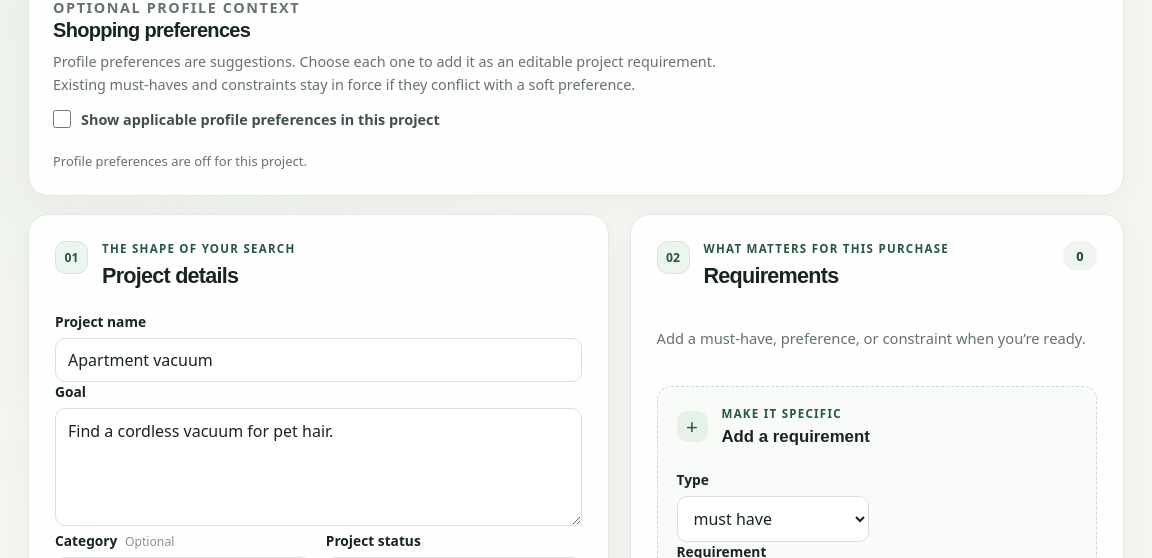
project Overview › saves project details as a revisioned patch
(page scrolled)
Step 1. Replace the text in the field labelled "Project name" with "Quiet apartment vacuum" → (318, 360), box [55, 338, 582, 382]
(page scrolled)
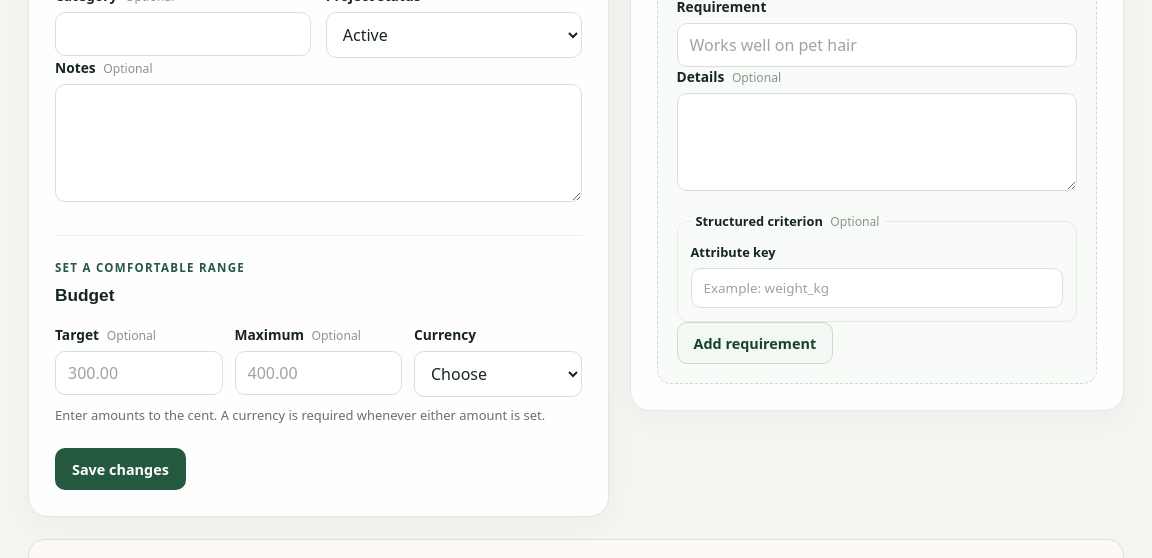
Step 2. Click the button "Save changes" → (120, 469), box [55, 448, 186, 490]
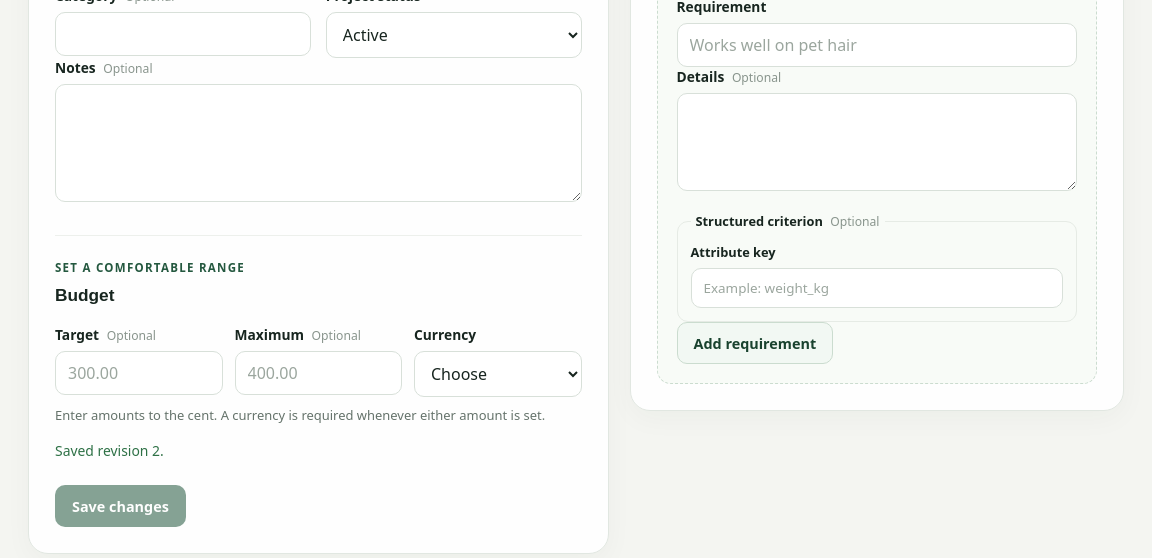
Result: the message shows "Saved revision 2" at [55, 441, 164, 460]
